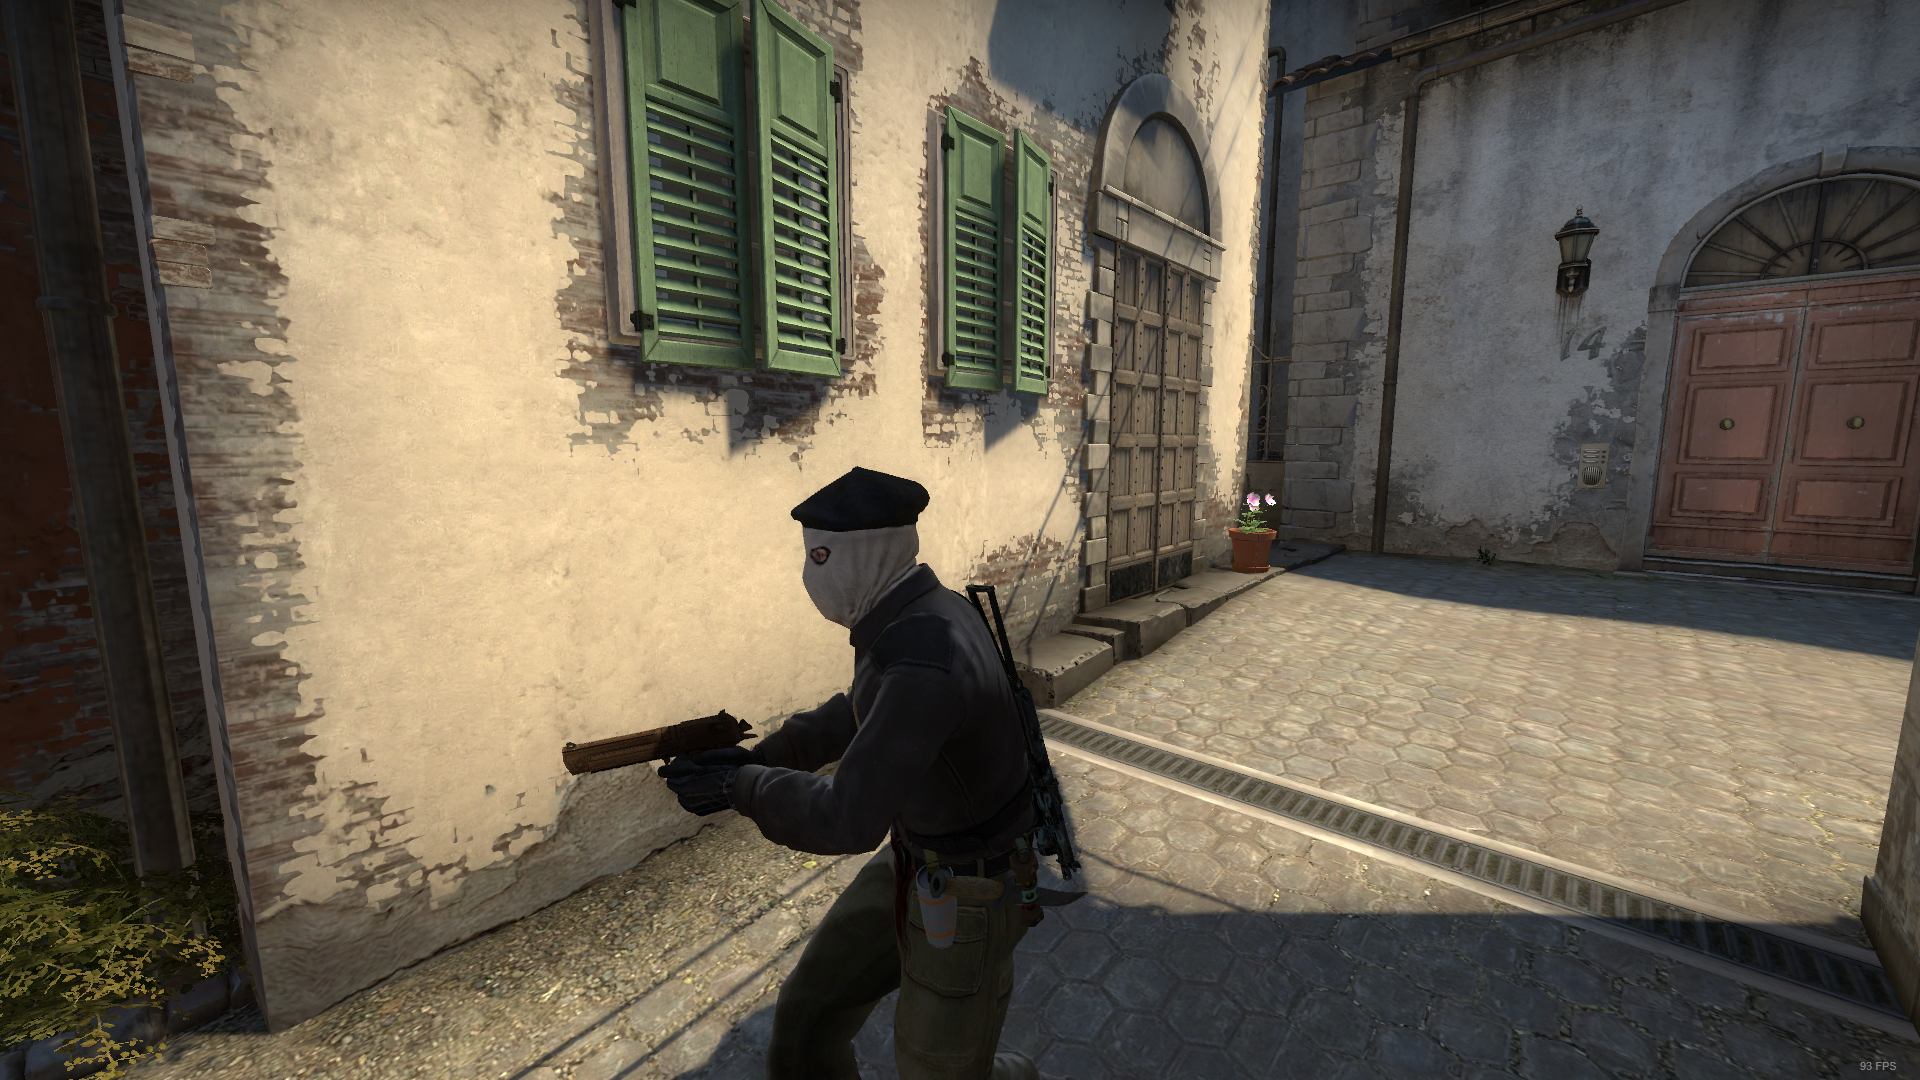t: (655, 469, 1097, 1080)
